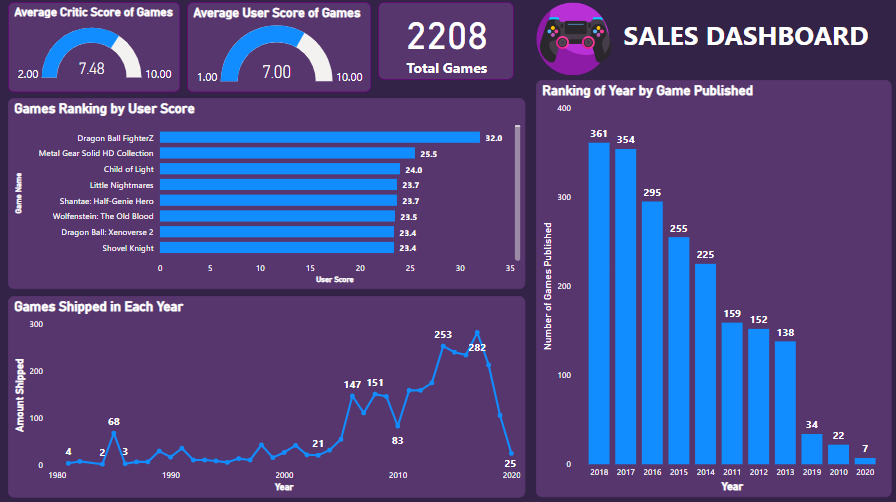

Layout of this report page (visuals, bound fields, positions):
{"tool":"powerbi","page":{"name":"Page 1","canvas":[1280,720],"ordinal":0},"visuals":[{"type":"textbox","box":[757,15.1,523,72.9],"z":0},{"type":"card","fields":{"Values":["CountNonNull(game_sales_data.Name)"]},"box":[540,5.7,194.3,111.4],"z":1000},{"type":"gauge","title":"Average User Score of Games","fields":{"Y":["Avg(game_sales_data.User_Score)"],"MinValue":["Min(game_sales_data.User_Score)"],"MaxValue":["Max(game_sales_data.User_Score)1"]},"box":[267.1,5.7,262.9,128.6],"z":2000},{"type":"gauge","title":"Average Critic Score of Games","fields":{"Y":["Avg(game_sales_data.Critic_Score)"],"MinValue":["Min(game_sales_data.Critic_Score)1"],"MaxValue":["Max(game_sales_data.Critic_Score)2"]},"box":[11.4,5.7,245.7,128.6],"z":3000},{"type":"lineChart","title":"Games Shipped in Each Year","fields":{"Category":["game_sales_data.Year"],"Y":["Sum(game_sales_data.Total_Shipped)"]},"box":[11,425.3,739.1,287.7],"z":4000},{"type":"barChart","title":" Games Ranking by User Score","fields":{"Category":["game_sales_data.Name"],"Y":["Sum(game_sales_data.User_Score)"]},"box":[11,143.1,739.1,272.5],"z":5000},{"type":"columnChart","title":"Ranking of Year by Game Published","fields":{"Y":["CountNonNull(game_sales_data.Name)"],"Category":["game_sales_data.Year"]},"box":[765.2,117,507.9,596],"z":6000},{"type":"image","box":[721.2,0,196.8,117],"z":7000}]}

Visuals, with their boxes in screenshot pixels (x1, y1, x2, y2), scaled from the page's 1280x720 canvas onto the 896x502 screenshot:
textbox: left=530, top=11, right=895, bottom=61
card - CountNonNull(game_sales_data.Name): left=378, top=4, right=514, bottom=82
"Average User Score of Games" gauge: left=187, top=4, right=371, bottom=94
"Average Critic Score of Games" gauge: left=8, top=4, right=180, bottom=94
"Games Shipped in Each Year" lineChart: left=8, top=297, right=525, bottom=497
" Games Ranking by User Score" barChart: left=8, top=100, right=525, bottom=290
"Ranking of Year by Game Published" columnChart: left=536, top=82, right=891, bottom=497
image: left=505, top=0, right=643, bottom=82
